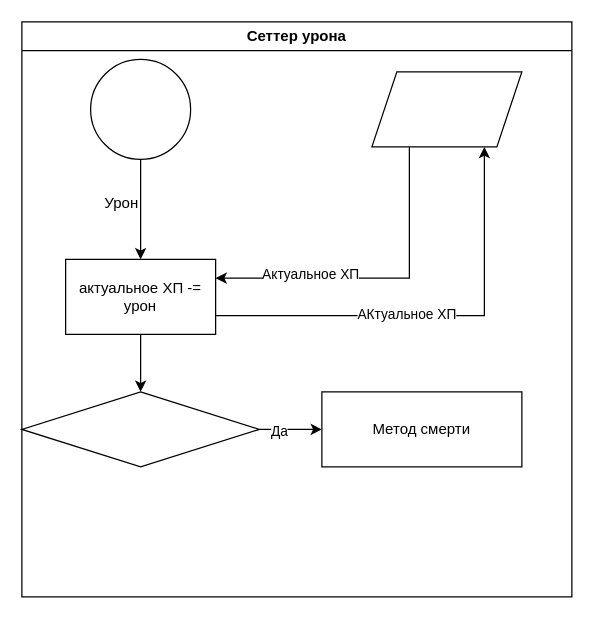
Some shapes in this 594 by 619 pixel diagram are drawn without their labels. The shapes that lost their labels are listed below. From the top down, each one's box as (x1, y1, x2, y2) in pixels, then its label:
(371, 71, 522, 147): Сущность ГГ
(21, 391, 259, 467): Актуальное ХП <= 0
